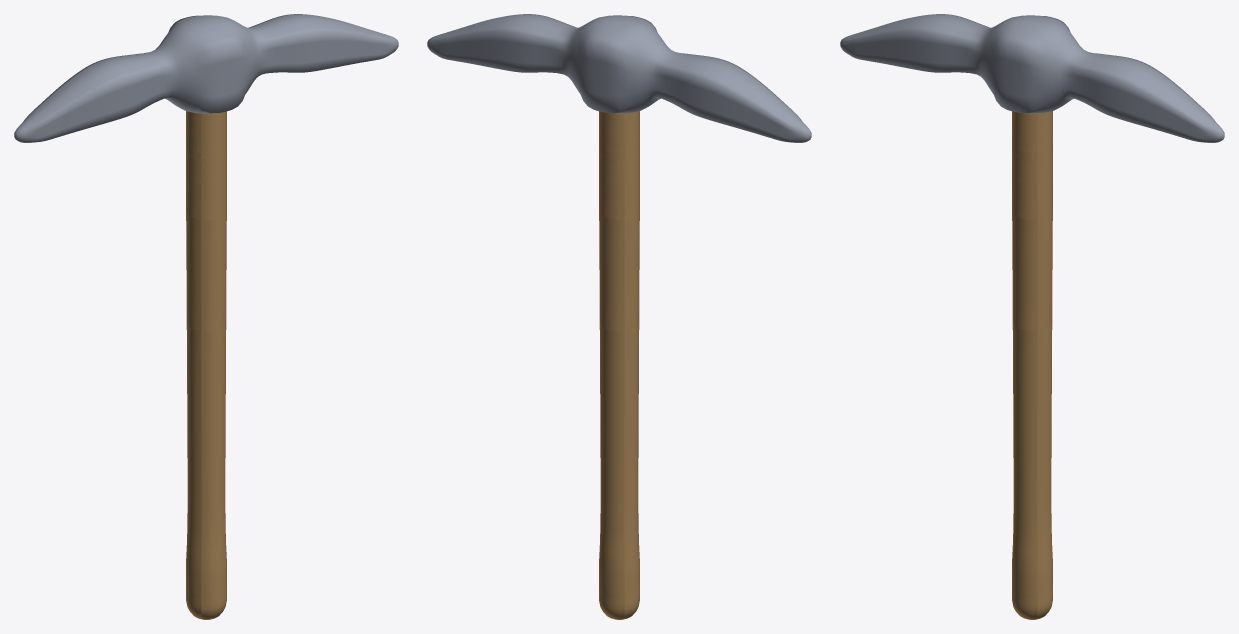
3 renders of one model, left to right at view 1: azimuth 30°, elevation 25°; view 2: azimuth 150°, elevation 25°; view 3: azimuth 330°, elevation 25°, orthographic.
Parts seen in each view (by area): view 1: iron_pickaxe; view 2: iron_pickaxe; view 3: iron_pickaxe.
Boxes of the visible parts, x1,y1,x2,y2 form: iron_pickaxe: (14, 14, 398, 619); iron_pickaxe: (427, 14, 811, 619); iron_pickaxe: (840, 14, 1224, 619).
Size of the model in its own units: 0.5822 by 0.8625 by 0.1.
